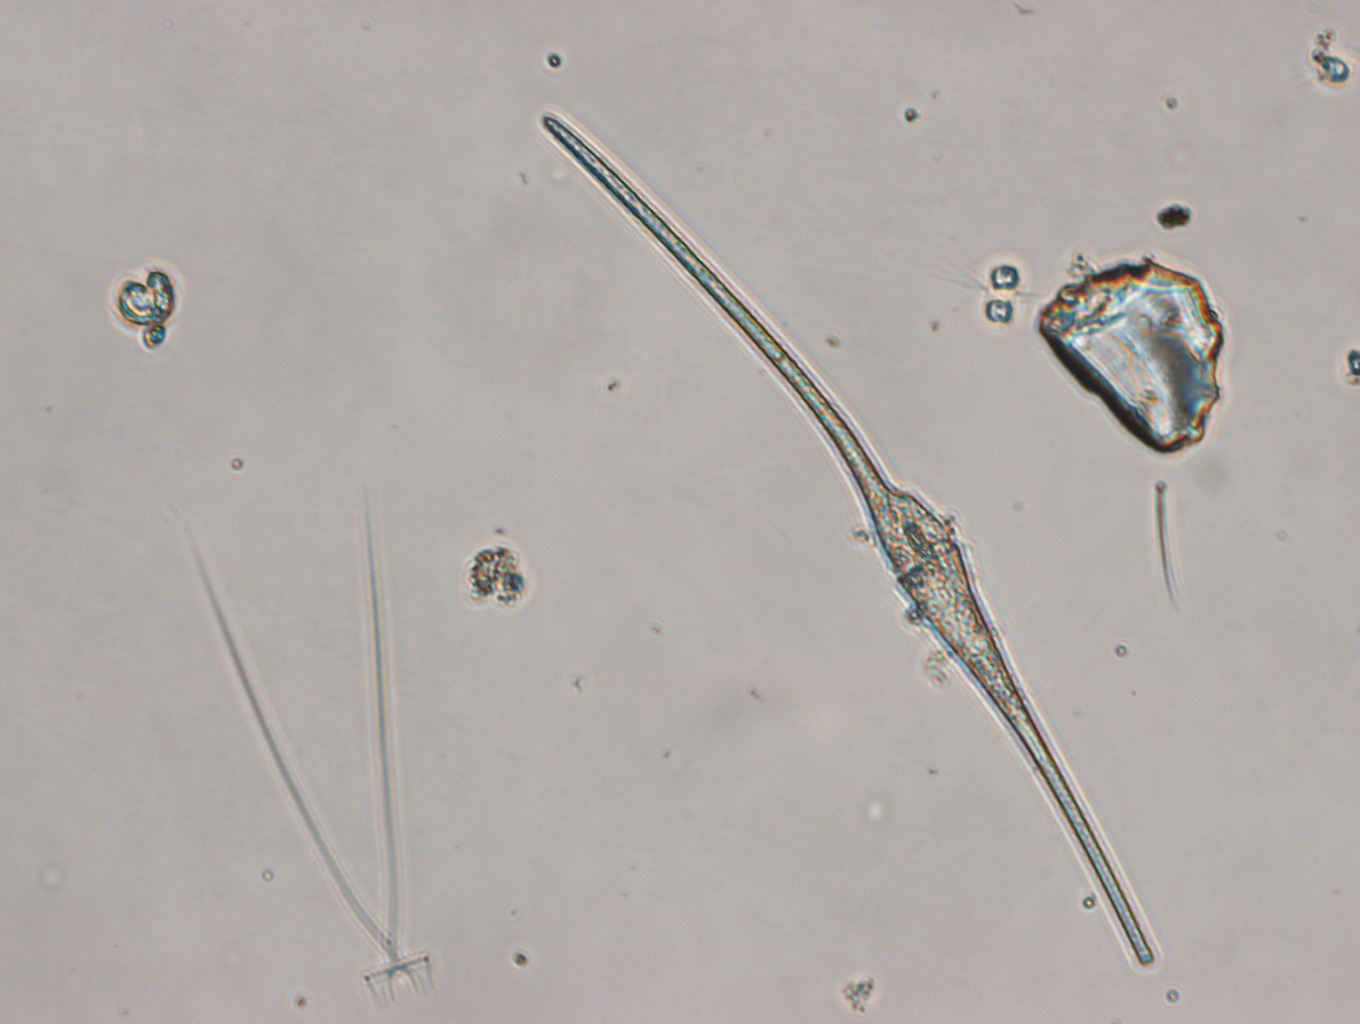ceratium fusus: (539, 109, 1158, 969)
